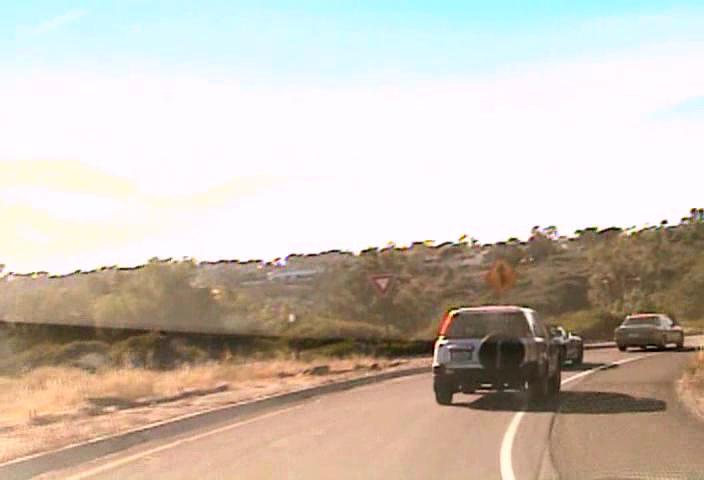yield: (368, 272, 395, 297)
